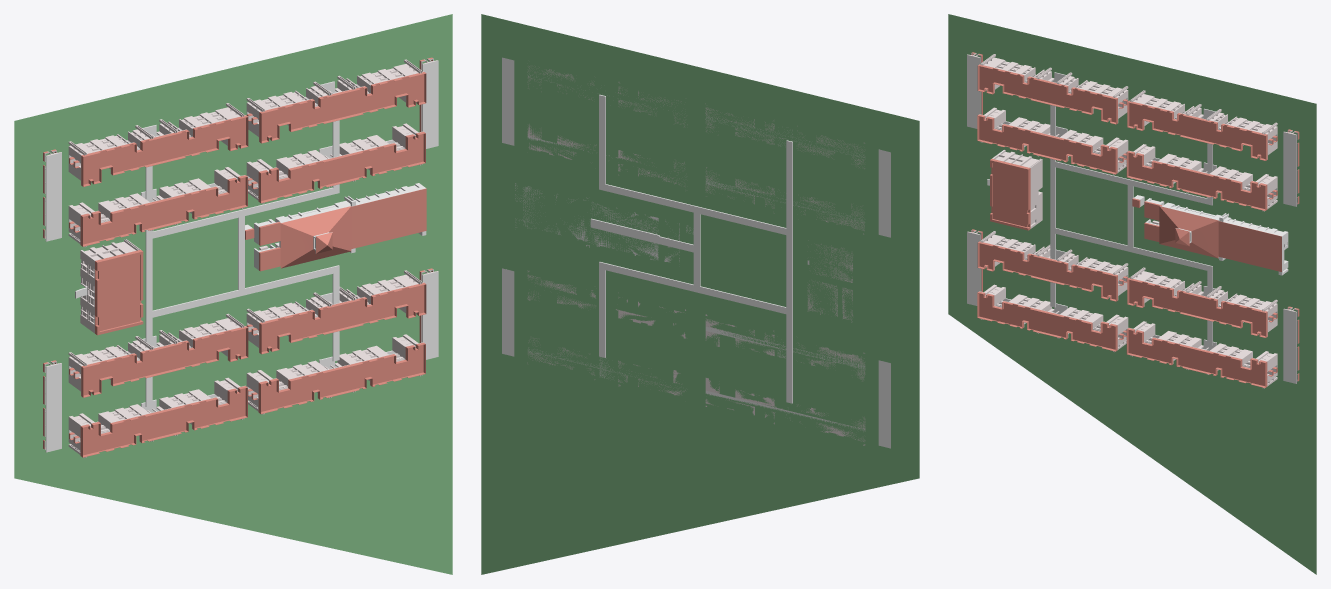
Rendered from hall9.glb.
3 renders of one model, left to right at view 1: azimuth 30°, elevation 25°; view 2: azimuth 150°, elevation 25°; view 3: azimuth 330°, elevation 25°, orthographic. The views are drawn at different scales.
Visible parts, largest first — view 1: Body1140, Body736, Body928, Body86, Body832, Body374, Body640, Body182, Body278, Body28, Body14, Body19 (+10 smaller); view 2: Body1140, Body1122, Body1125, Body488, Body561, Body1026, Body1099, Body437, Body19, Body1, Body1123, Body1128 (+3 smaller); view 3: Body1140, Body182, Body736, Body374, Body928, Body640, Body832, Body278, Body86, Body28, Body14, Body19 (+10 smaller).
Part boxes in pixels (<box>): Body1140: <box>14,14,452,574</box>; Body736: <box>258,342,425,414</box>; Body928: <box>81,326,248,397</box>; Body86: <box>80,175,247,246</box>; Body832: <box>259,282,426,354</box>; Body374: <box>81,115,248,186</box>; Body640: <box>80,386,247,457</box>; Body182: <box>258,131,425,203</box>; Body278: <box>259,72,426,143</box>; Body28: <box>95,249,143,335</box>; Body14: <box>351,188,426,248</box>; Body19: <box>80,239,140,333</box>; Body1140: <box>481,14,919,574</box>; Body1122: <box>599,183,792,236</box>; Body1125: <box>599,262,792,314</box>; Body488: <box>878,149,890,237</box>; Body561: <box>502,57,514,145</box>; Body1026: <box>878,360,890,448</box>; Body1099: <box>502,268,514,356</box>; Body437: <box>590,218,693,252</box>; Body19: <box>807,240,852,322</box>; Body1: <box>591,202,658,259</box>; Body1123: <box>599,94,605,190</box>; Body1128: <box>599,262,605,357</box>; Body1140: <box>948,14,1316,574</box>; Body182: <box>1126,151,1267,210</box>; Body736: <box>1126,328,1267,387</box>; Body374: <box>977,64,1117,124</box>; Body928: <box>977,241,1117,301</box>; Body640: <box>977,291,1117,351</box>; Body832: <box>1127,278,1267,337</box>; Body278: <box>1127,101,1267,160</box>; Body86: <box>977,114,1117,174</box>; Body28: <box>990,158,1030,230</box>; Body14: <box>1218,221,1281,271</box>; Body19: <box>992,150,1042,228</box>.
Bounding box in the file's own units: 0.5264 × 0.6437 × 0.0407.
